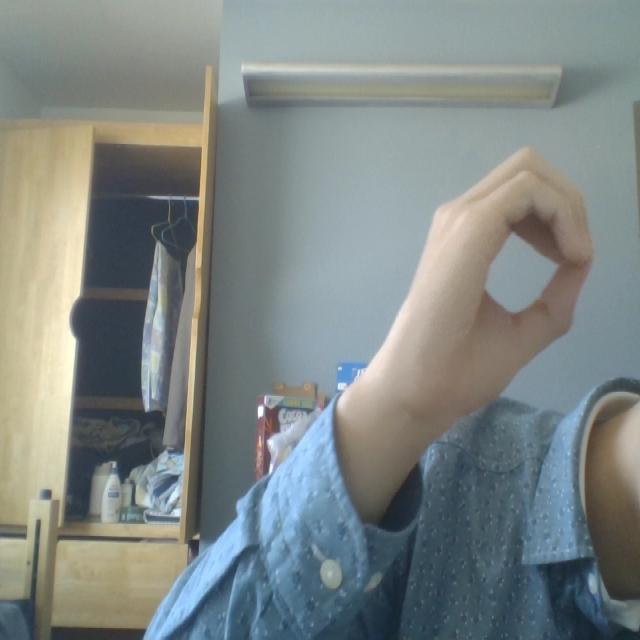O: (318, 91, 595, 468)
